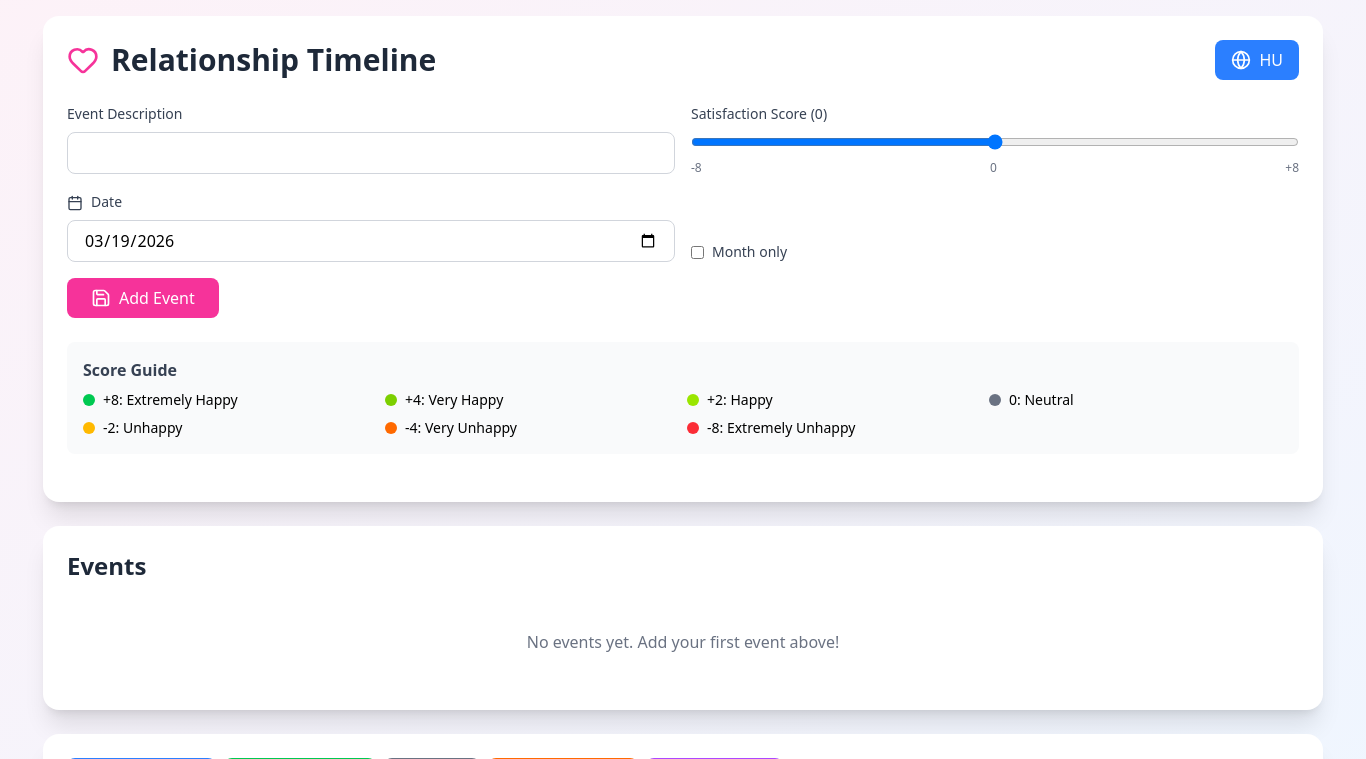
Scenario: RelationshipTimeline Component › Adding Events › should clear form after adding event
Type "Anniversary" into the field labelled "Event Description" at (371, 153), box [67,132,675,174]
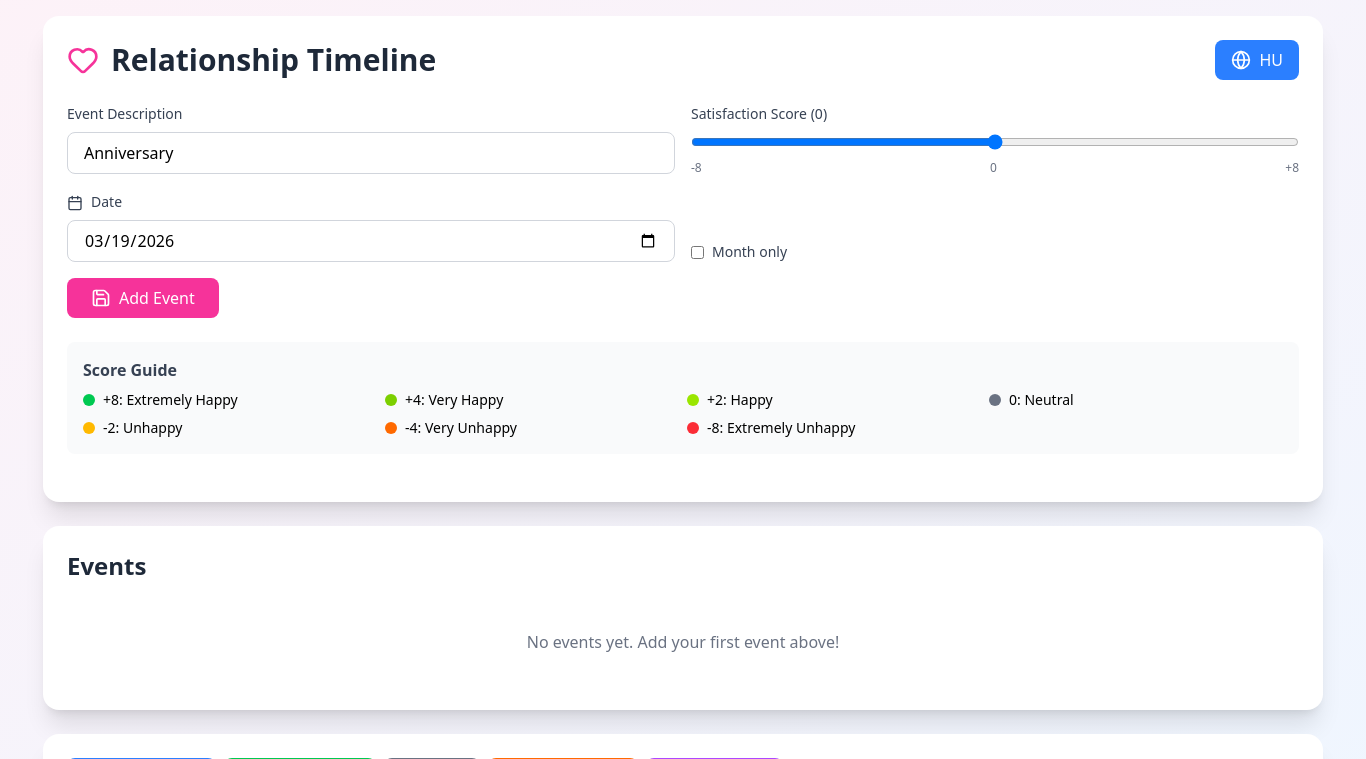
Set the slider labelled "Satisfaction Score (0)" to "8" at (1291, 142), box [691,134,1299,150]
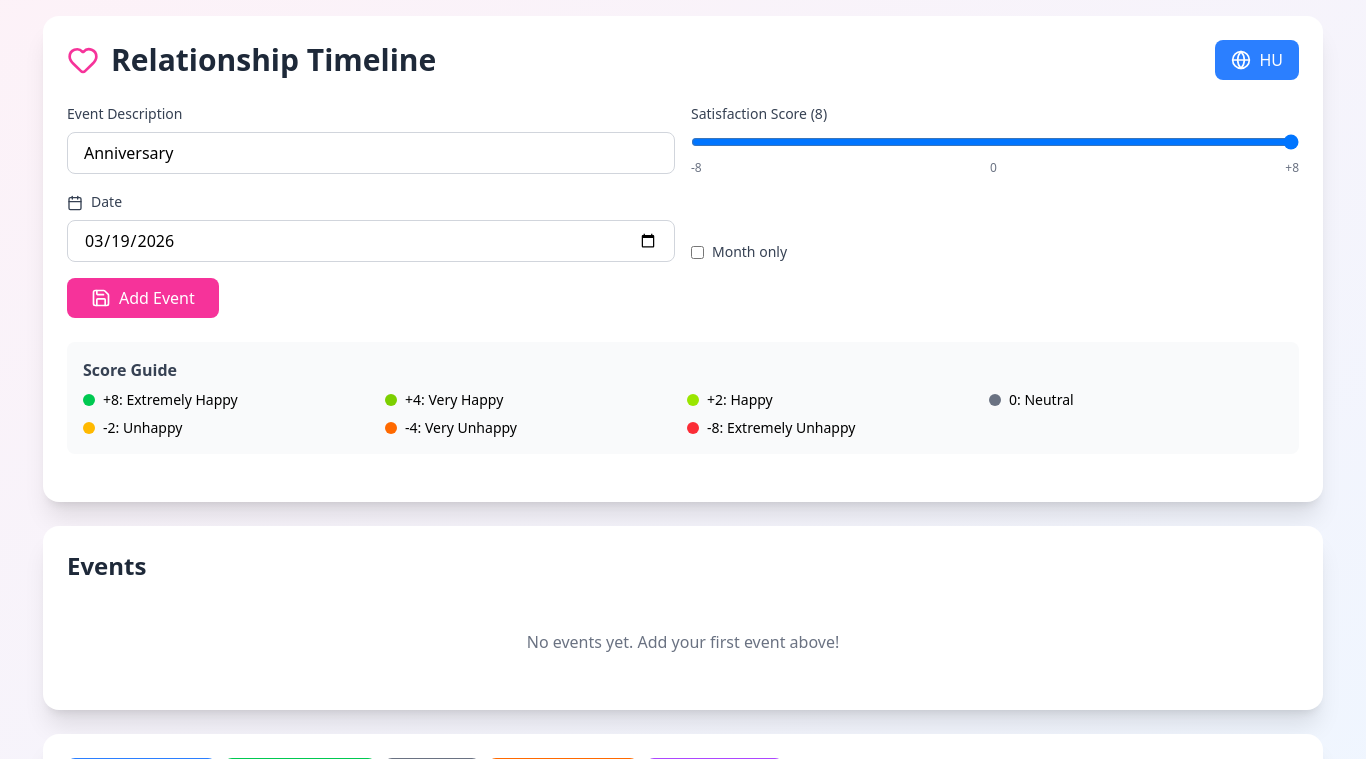
Click the button "Add Event" at (143, 298), box [67,278,219,318]
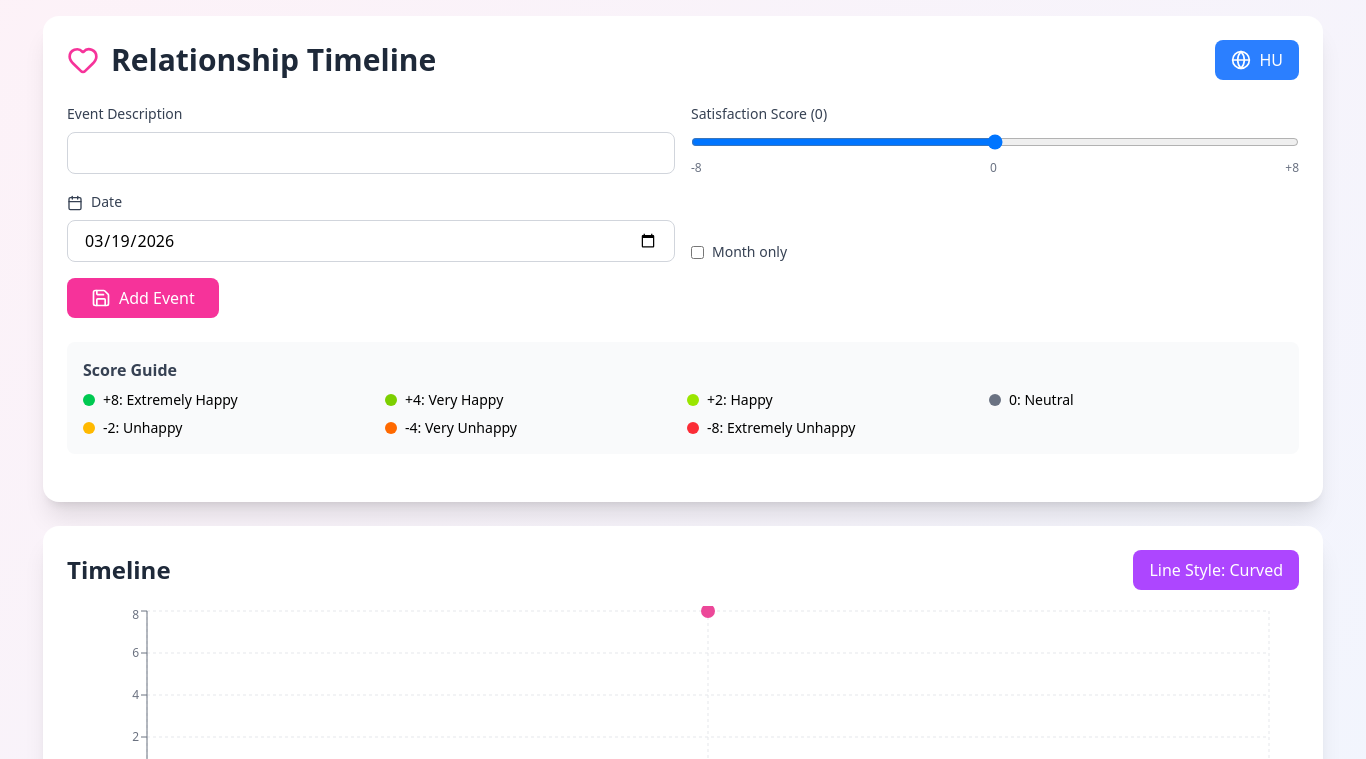
Expected: the field labelled "Event Description" is empty, [67,132,675,174]
Expected: the slider labelled "Satisfaction Score (0)" holds "0", [691,134,1299,150]
